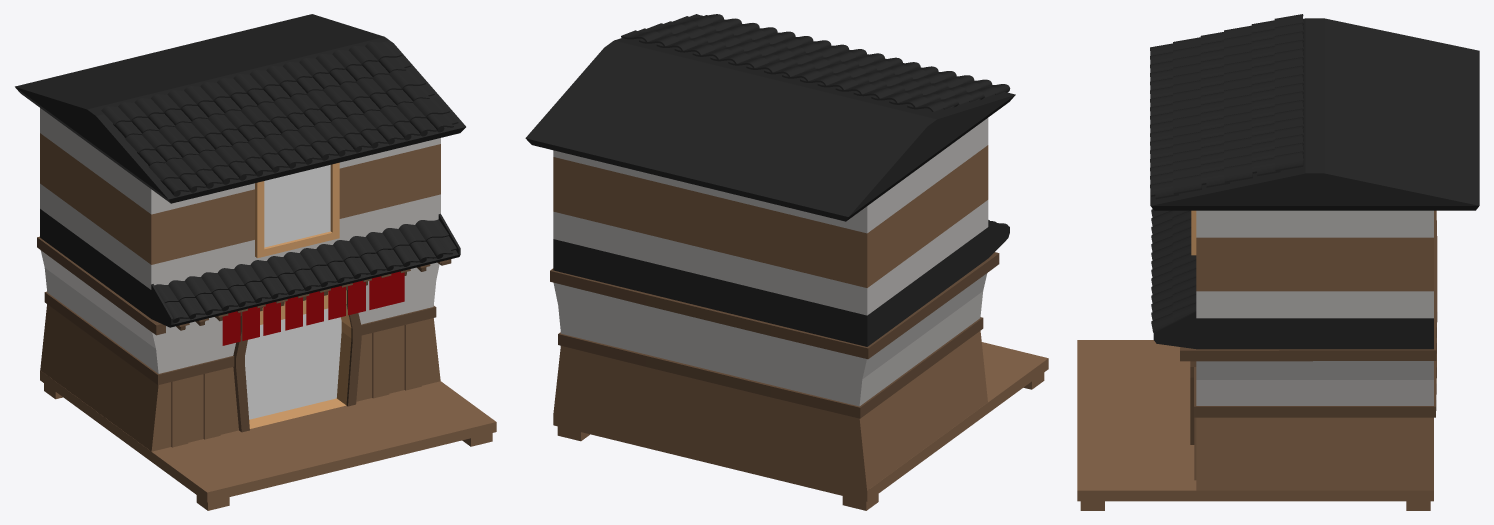
File: EnvironmentArt_House2.fbx
3 renders of one model, left to right at view 1: azimuth 30°, elevation 25°; view 2: azimuth 150°, elevation 25°; view 3: azimuth 270°, elevation 25°, orthographic. The views are drawn at different scales.
Parts seen in each view (by area): view 1: Shop_Tuiles.001; view 2: Shop_Tuiles.001; view 3: Shop_Tuiles.001.
Boxes of the visible parts, x1,y1,x2,y2 form: Shop_Tuiles.001: (15,14,496,510); Shop_Tuiles.001: (525,14,1048,510); Shop_Tuiles.001: (1077,14,1479,510).
Size of the model in its own units: 617 by 649 by 677.
